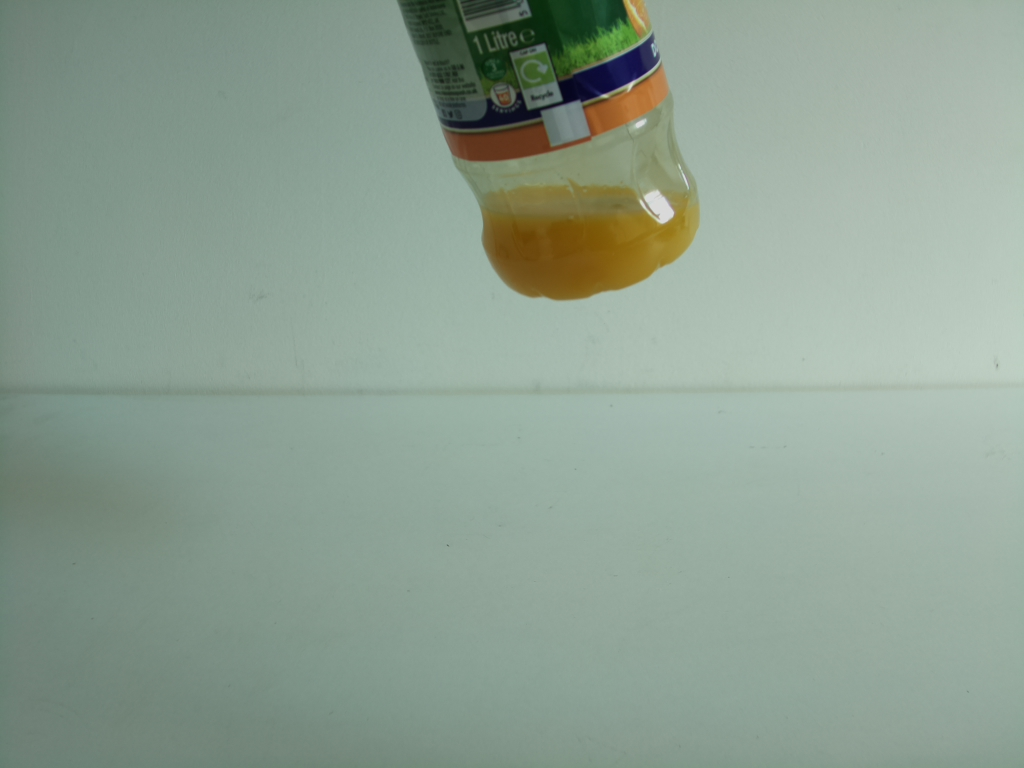juice: (394, 1, 703, 310)
